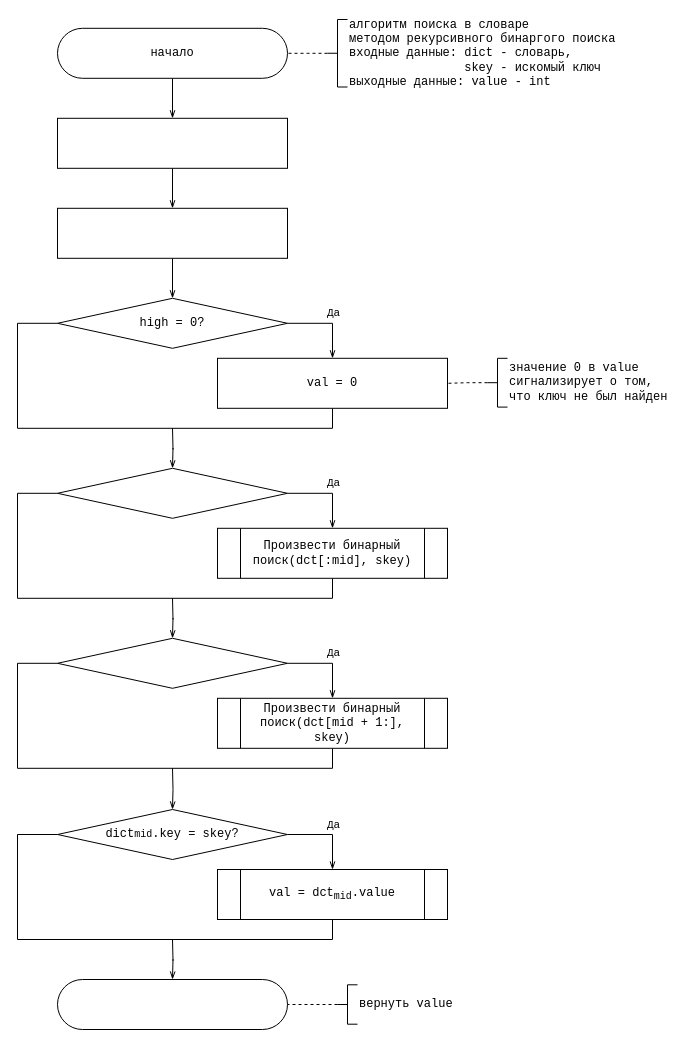
This 685x1047 diagram has some shape labels left out. The shapes that lost their labels are listed below. From the top down, each one's box as (x1, y1, x2, y2) in pixels, then its label:
(56, 117, 288, 168): high = |dict|
(56, 207, 288, 258): mid = high / 2
(56, 467, 288, 518): dict mid .key > skey?
(56, 637, 288, 688): dict mid .key < skey?
(56, 978, 288, 1030): конец
